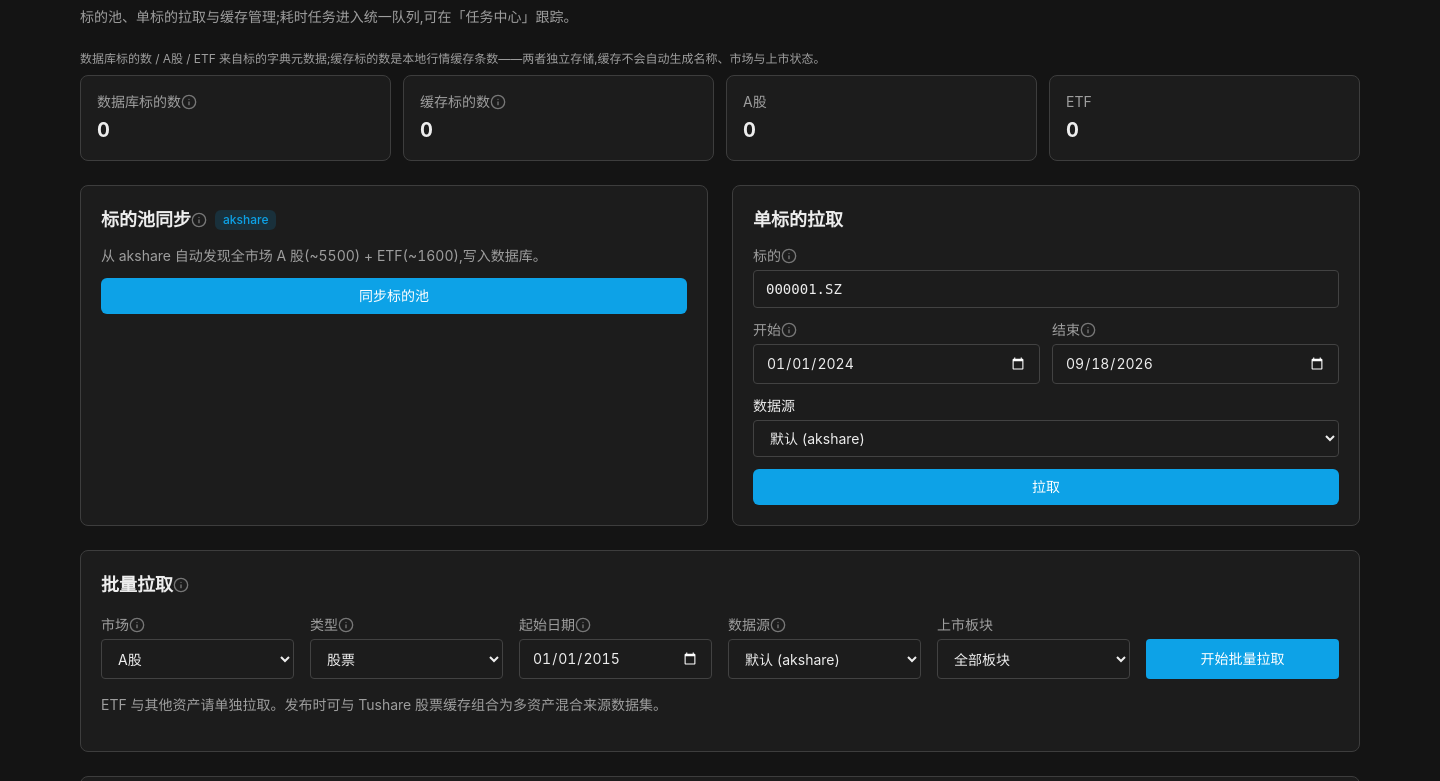
Test case: 目标页面 InfoHint 接入 › 数据页展示标的代码与缓存复权说明
Click the button named "查看“证券标的代码”说明". click: (789, 256)
box: [779,246,799,266]
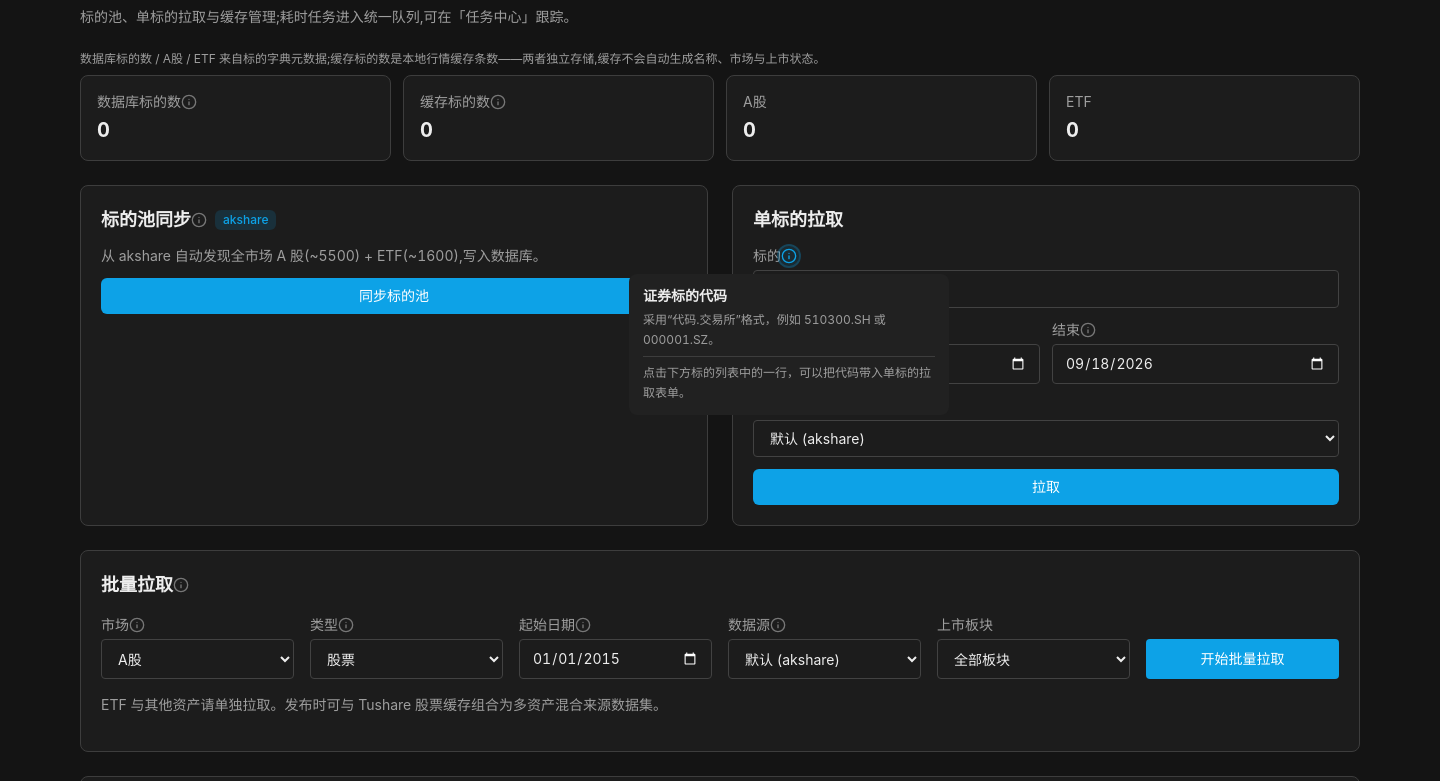
Expected: the tooltip shows "代码.交易所", [643,312,886,347]
Click the button named "查看“批量行情数据源”说明". click: (778, 625)
box: [768,615,788,635]
(page scrolled)
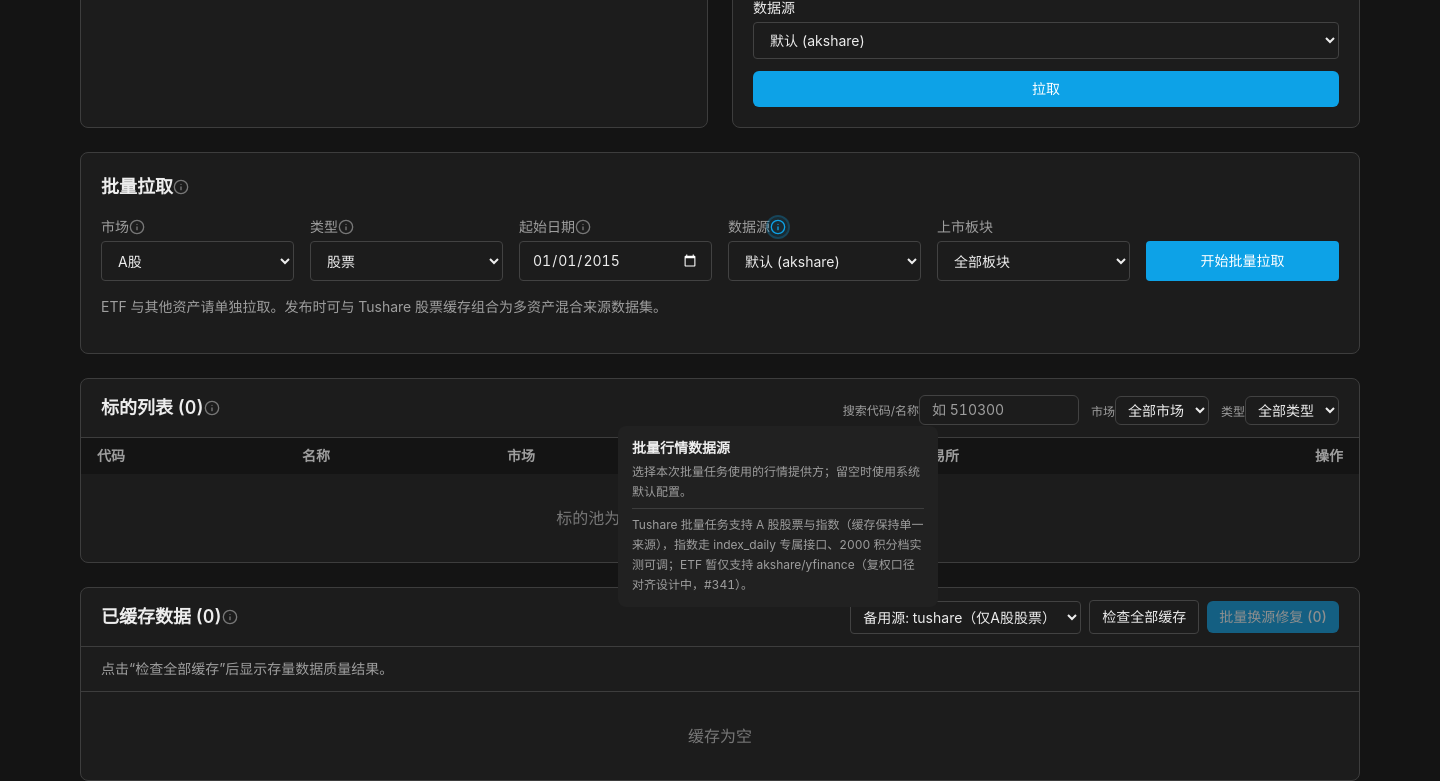
Expected: the tooltip shows "系统默认配置", [632,464,920,499]
Click the button named "查看“缓存行情”说明". click: (230, 617)
box: [220,607,240,627]
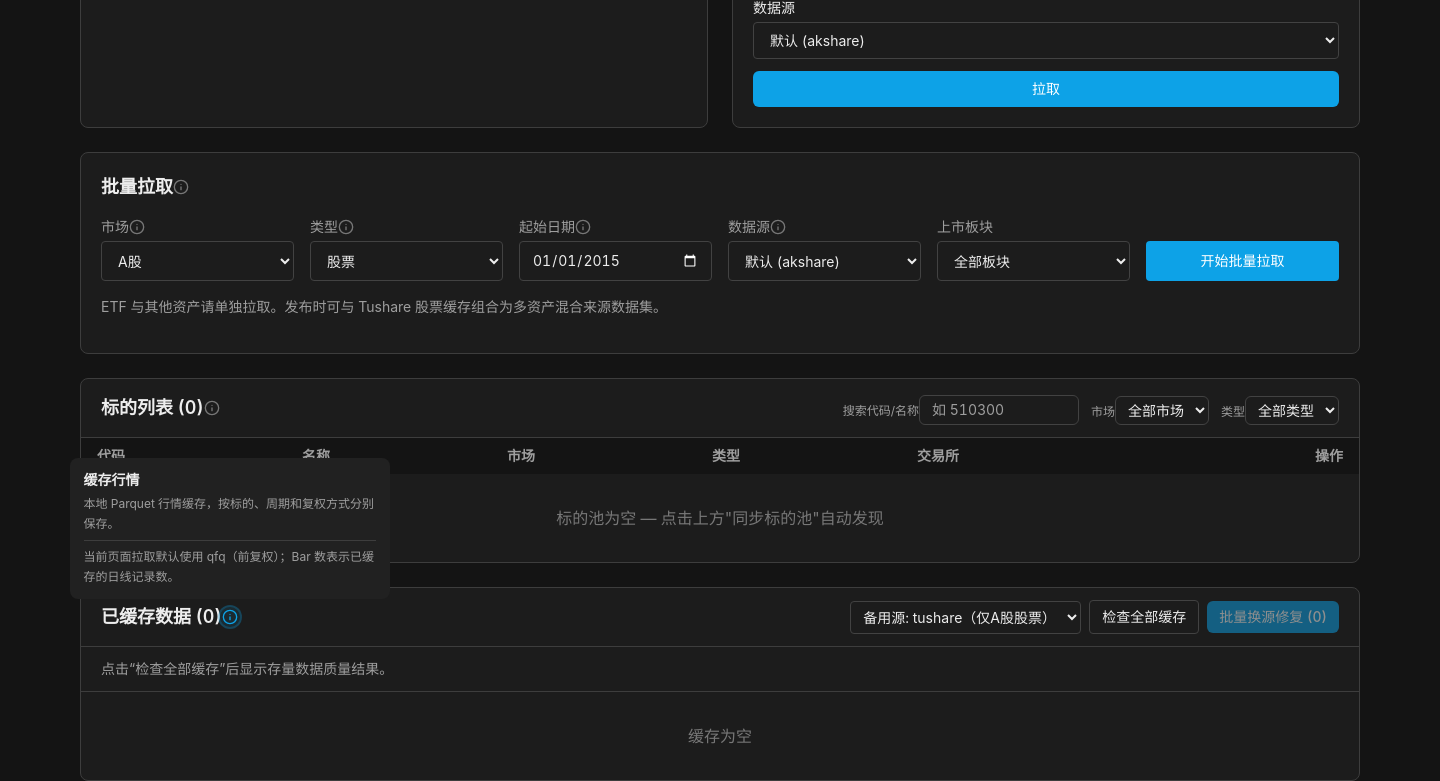
Expected: the tooltip shows "qfq", [84,549,374,584]
